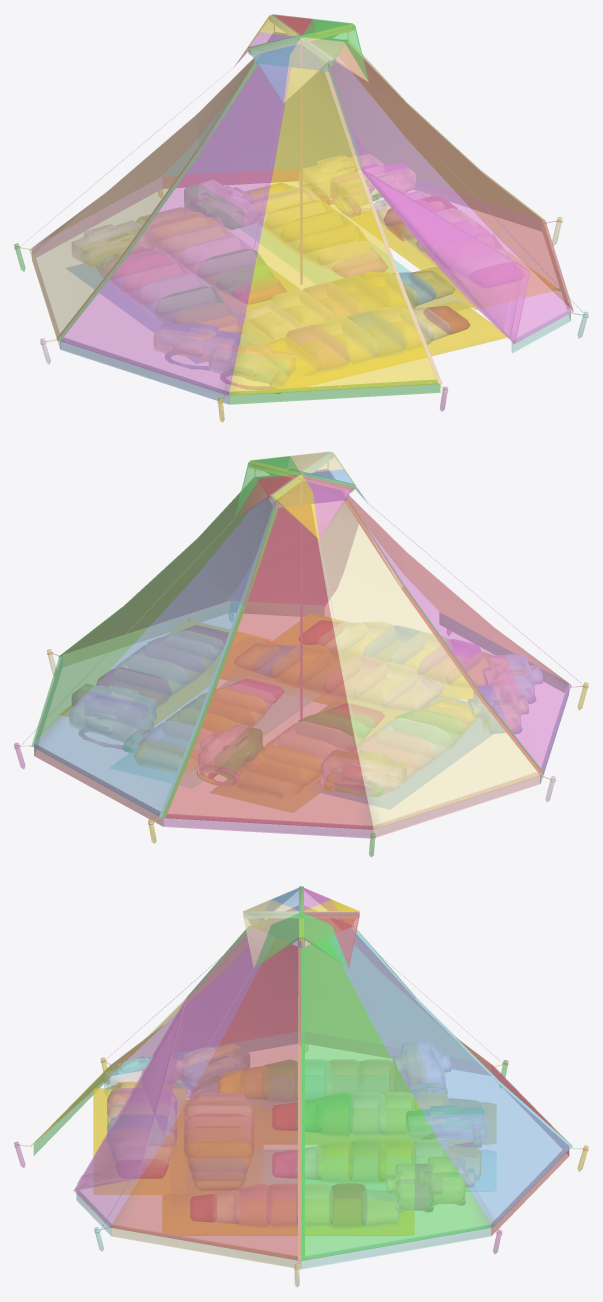
Rendered from ClownTent.glb.
3 views of the same model, one above another, from view 1: azimuth 30°, elevation 25°; view 2: azimuth 150°, elevation 25°; view 3: azimuth 270°, elevation 25° (orthographic). The views are drawn at different scales.
Visible parts, largest first — view 1: 3d-model; view 2: 3d-model; view 3: 3d-model.
Boxes of the visible parts, box(x1,y1,x2,y2) form: 3d-model: box(14, 14, 588, 422); 3d-model: box(14, 451, 588, 856); 3d-model: box(14, 886, 588, 1286).
Bounding box in the file's own units: 177 × 88.04 × 177.
